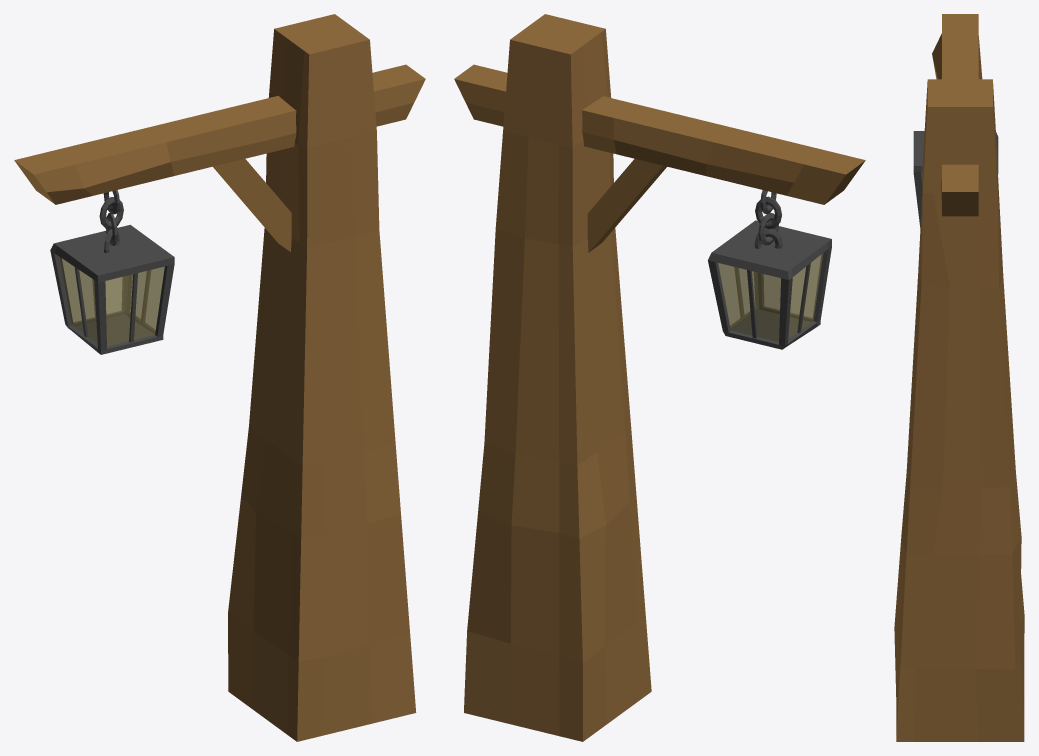
The model's file is LampPost.fbx.
3 views of the same model, side by side, from view 1: azimuth 30°, elevation 25°; view 2: azimuth 150°, elevation 25°; view 3: azimuth 270°, elevation 25° (orthographic). The views are drawn at different scales.
Visible parts, largest first — view 1: LampPost; view 2: LampPost; view 3: LampPost.
Part boxes in pixels (<box>): LampPost: <box>14,14,425,741</box>; LampPost: <box>454,14,865,741</box>; LampPost: <box>894,14,1024,741</box>.
Bounding box in the file's own units: 2.77 × 4.51 × 0.8564.
